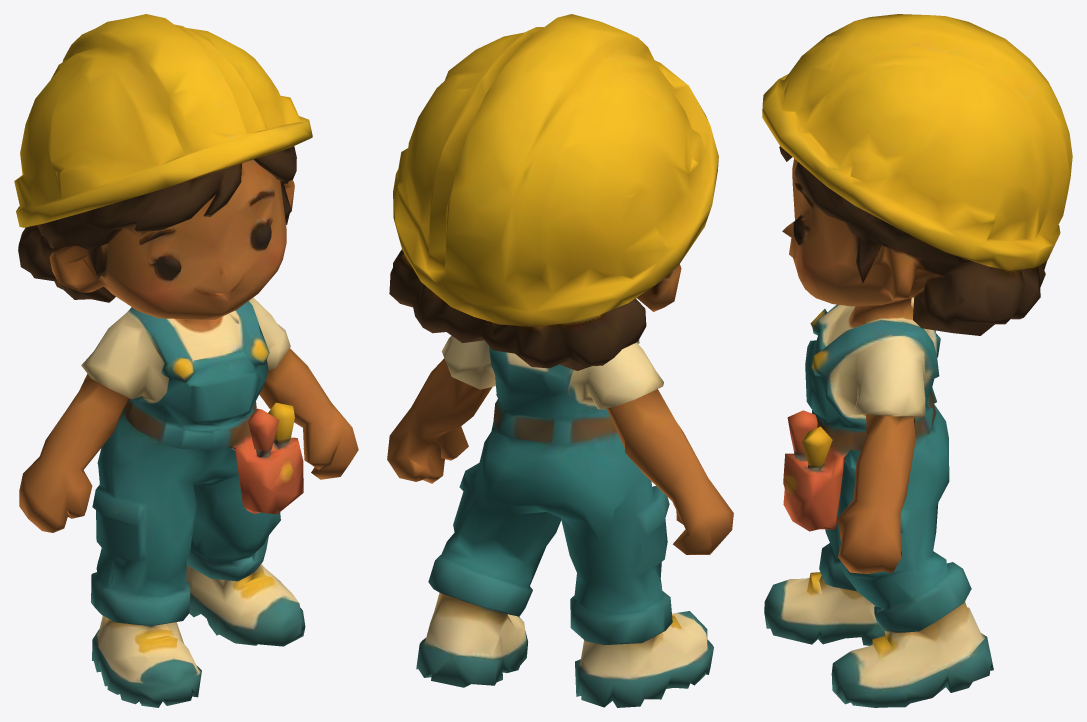
File: factory-worker-technician.glb
3 views of the same model, side by side, from view 1: azimuth 30°, elevation 25°; view 2: azimuth 150°, elevation 25°; view 3: azimuth 270°, elevation 25° (orthographic). The views are drawn at different scales.
Parts seen in each view (by area): view 1: factory-worker-technician; view 2: factory-worker-technician; view 3: factory-worker-technician.
Part boxes in pixels (x1,y1,x2,y2): factory-worker-technician: (14,14,358,707); factory-worker-technician: (387,14,733,707); factory-worker-technician: (762,14,1072,707).
Bounding box in the file's own units: 0.8662 × 1.6 × 0.7159.
Materials: 1 (1 with a texture image).
